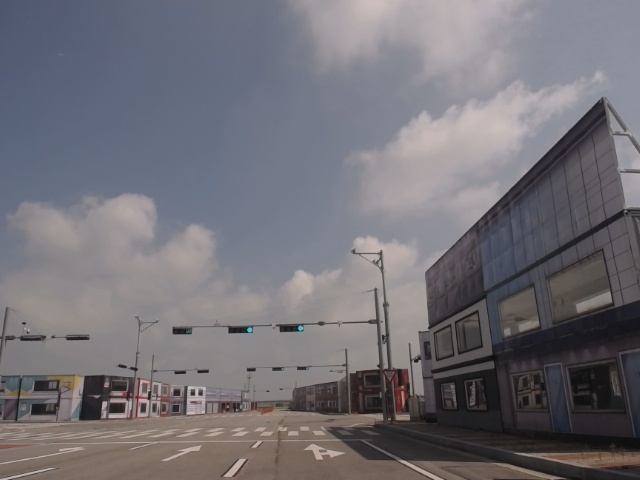straight_green_4: (227, 325, 253, 334), (281, 323, 304, 331)
